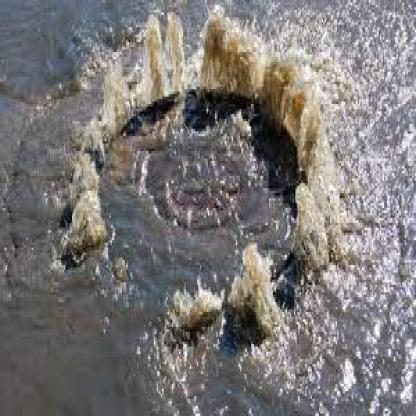drainage overflow-repair-: (10, 0, 391, 402)
